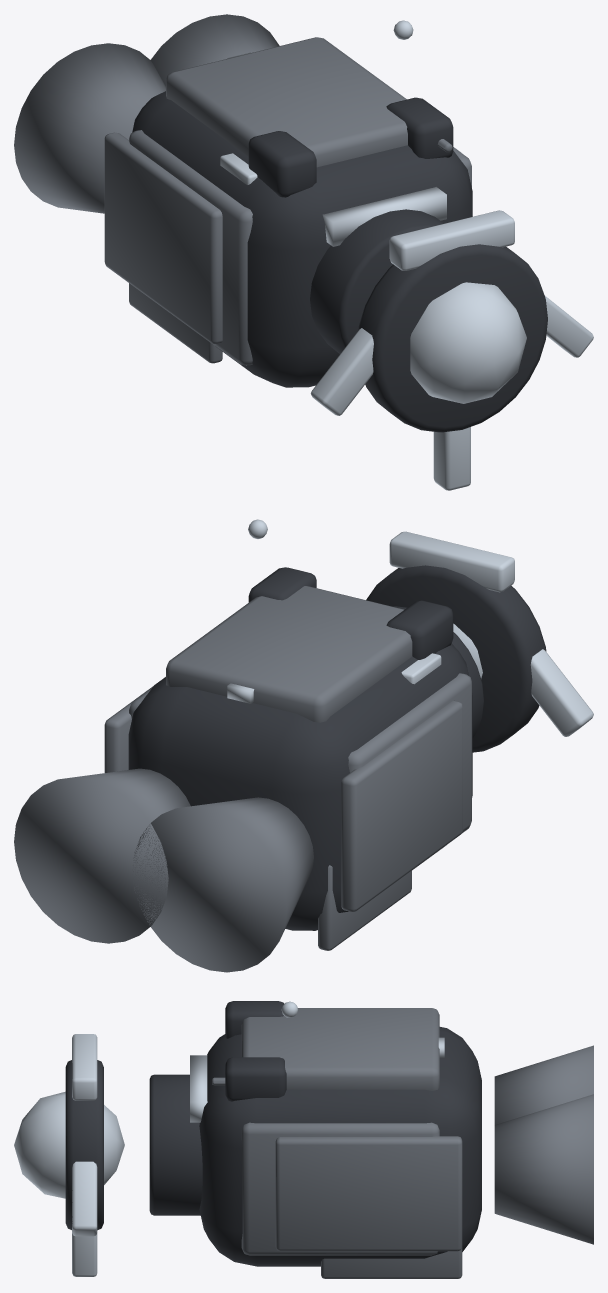
File: weapon_drone_solar_flare.glb
The picture shows the model from 3 angles, top to bottom: view 1: azimuth 30°, elevation 25°; view 2: azimuth 150°, elevation 25°; view 3: azimuth 270°, elevation 25°; orthographic projection. The views are drawn at different scales.
Parts seen in each view (by area): view 1: weapon_drone_solar_flare; view 2: weapon_drone_solar_flare; view 3: weapon_drone_solar_flare.
Part boxes in pixels (x1,y1,x2,y2): weapon_drone_solar_flare: [14, 14, 593, 490]; weapon_drone_solar_flare: [14, 519, 593, 972]; weapon_drone_solar_flare: [14, 1001, 593, 1278].
Bounding box in the file's own units: 0.696 × 0.8688 × 1.52.
